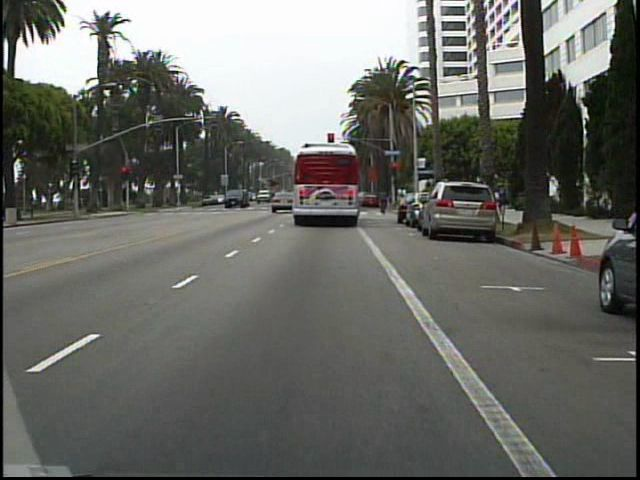person: (497, 183, 511, 217)
